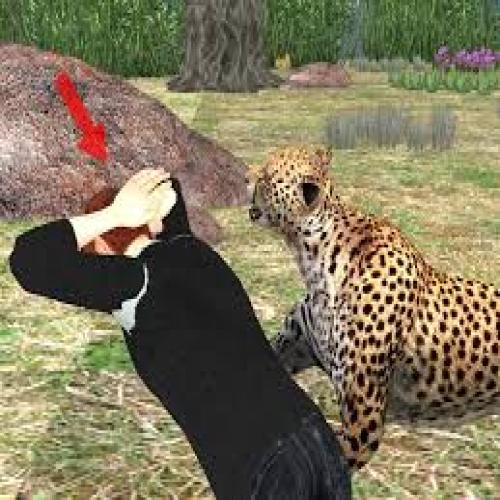cheetah-endangered: (242, 143, 500, 458)
